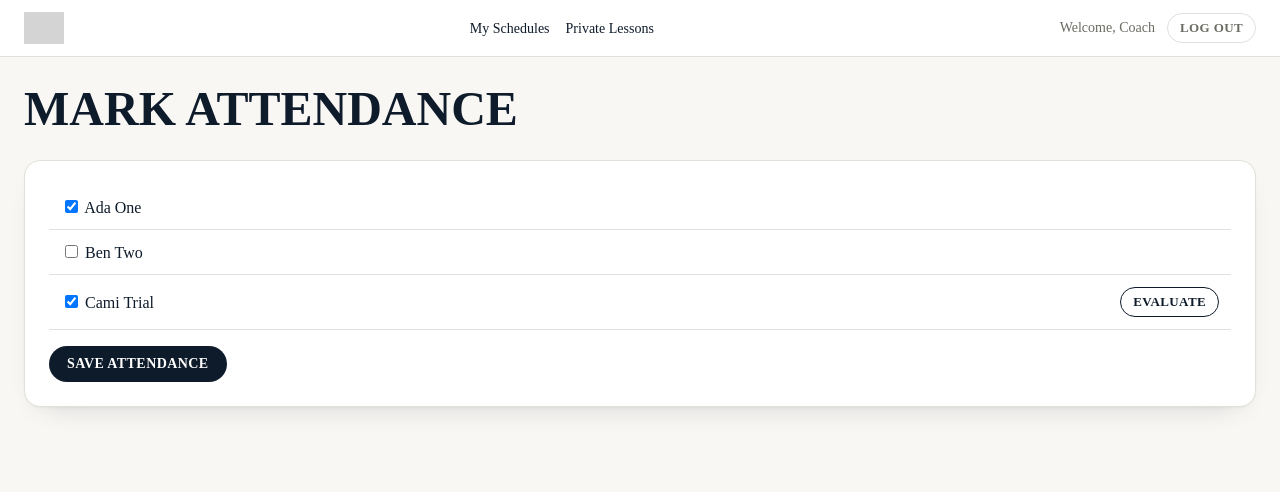
it: AttendancePage › shows the error message on a 403 response without crashing
The width and height of the screenshot is (1280, 492).
expect the text "Ada One" is shown: met, box [61,199,141,216]
Click the button "Save Attendance" at [138, 364], box [49,346,226,382]
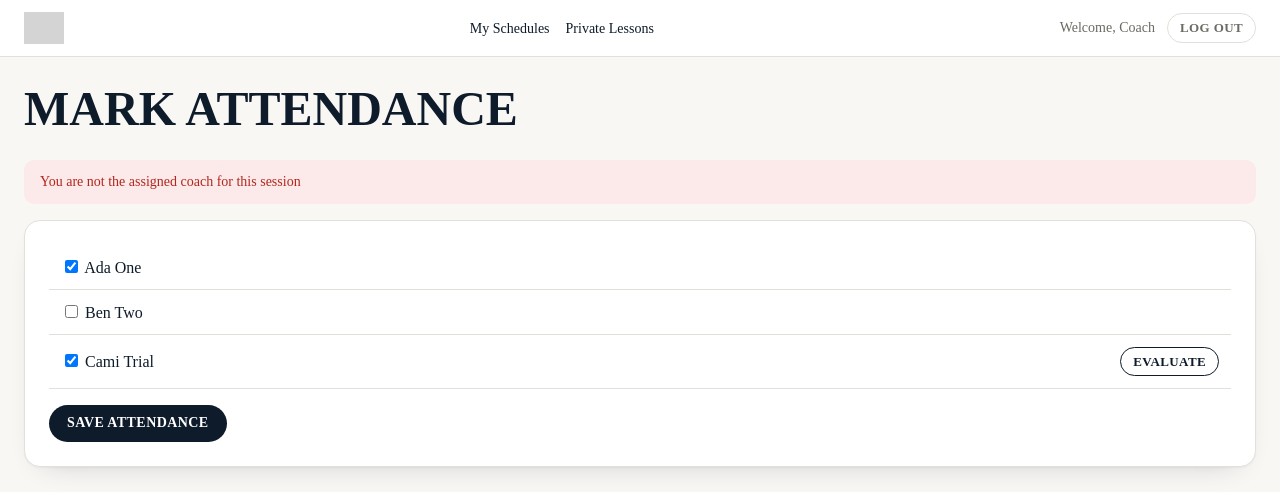
expect the message reads "You are not the assigned coach for this session": met, box [40,174,301,189]
